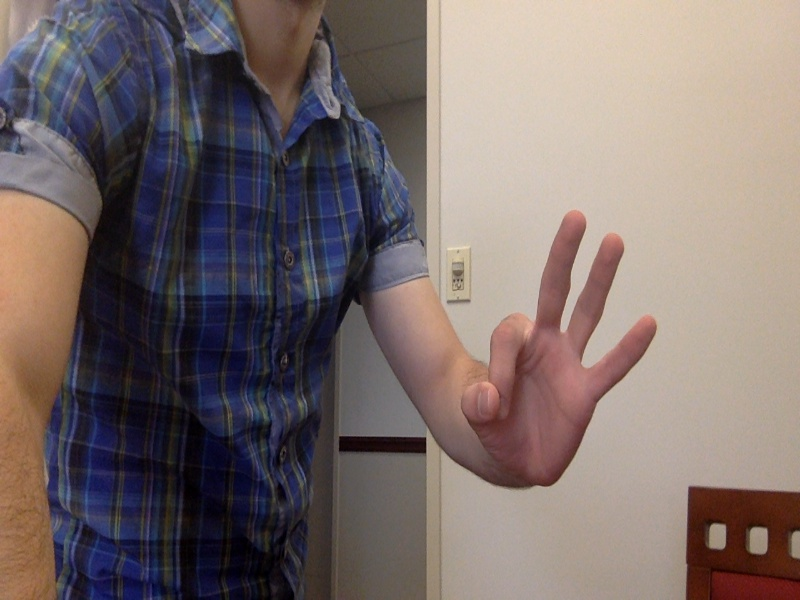3-hand: (468, 208, 661, 492)
